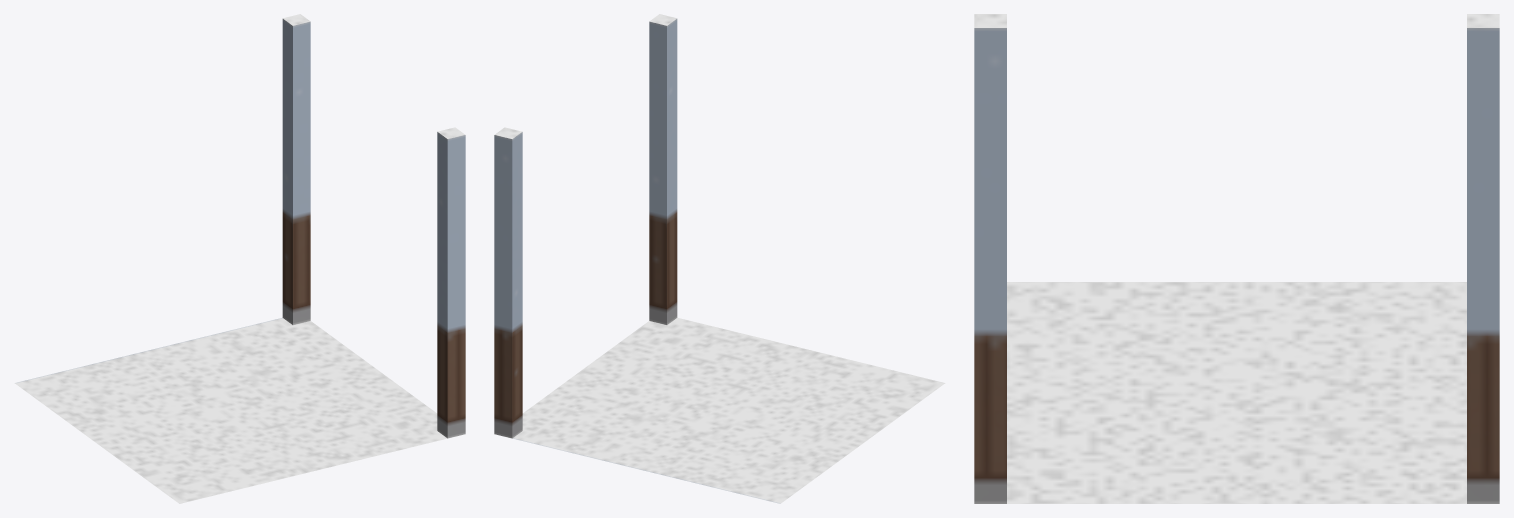
File: wallOpening.fbx
3 views of the same model, side by side, from view 1: azimuth 30°, elevation 25°; view 2: azimuth 150°, elevation 25°; view 3: azimuth 270°, elevation 25° (orthographic). The views are drawn at different scales.
Visible parts, largest first — view 1: WallOpening1; view 2: WallOpening1; view 3: WallOpening1.
Boxes of the visible parts, x1,y1,x2,y2 form: WallOpening1: [14, 14, 465, 503]; WallOpening1: [494, 14, 945, 503]; WallOpening1: [974, 14, 1499, 503].
Size of the model in its own units: 4 by 4 by 4.
